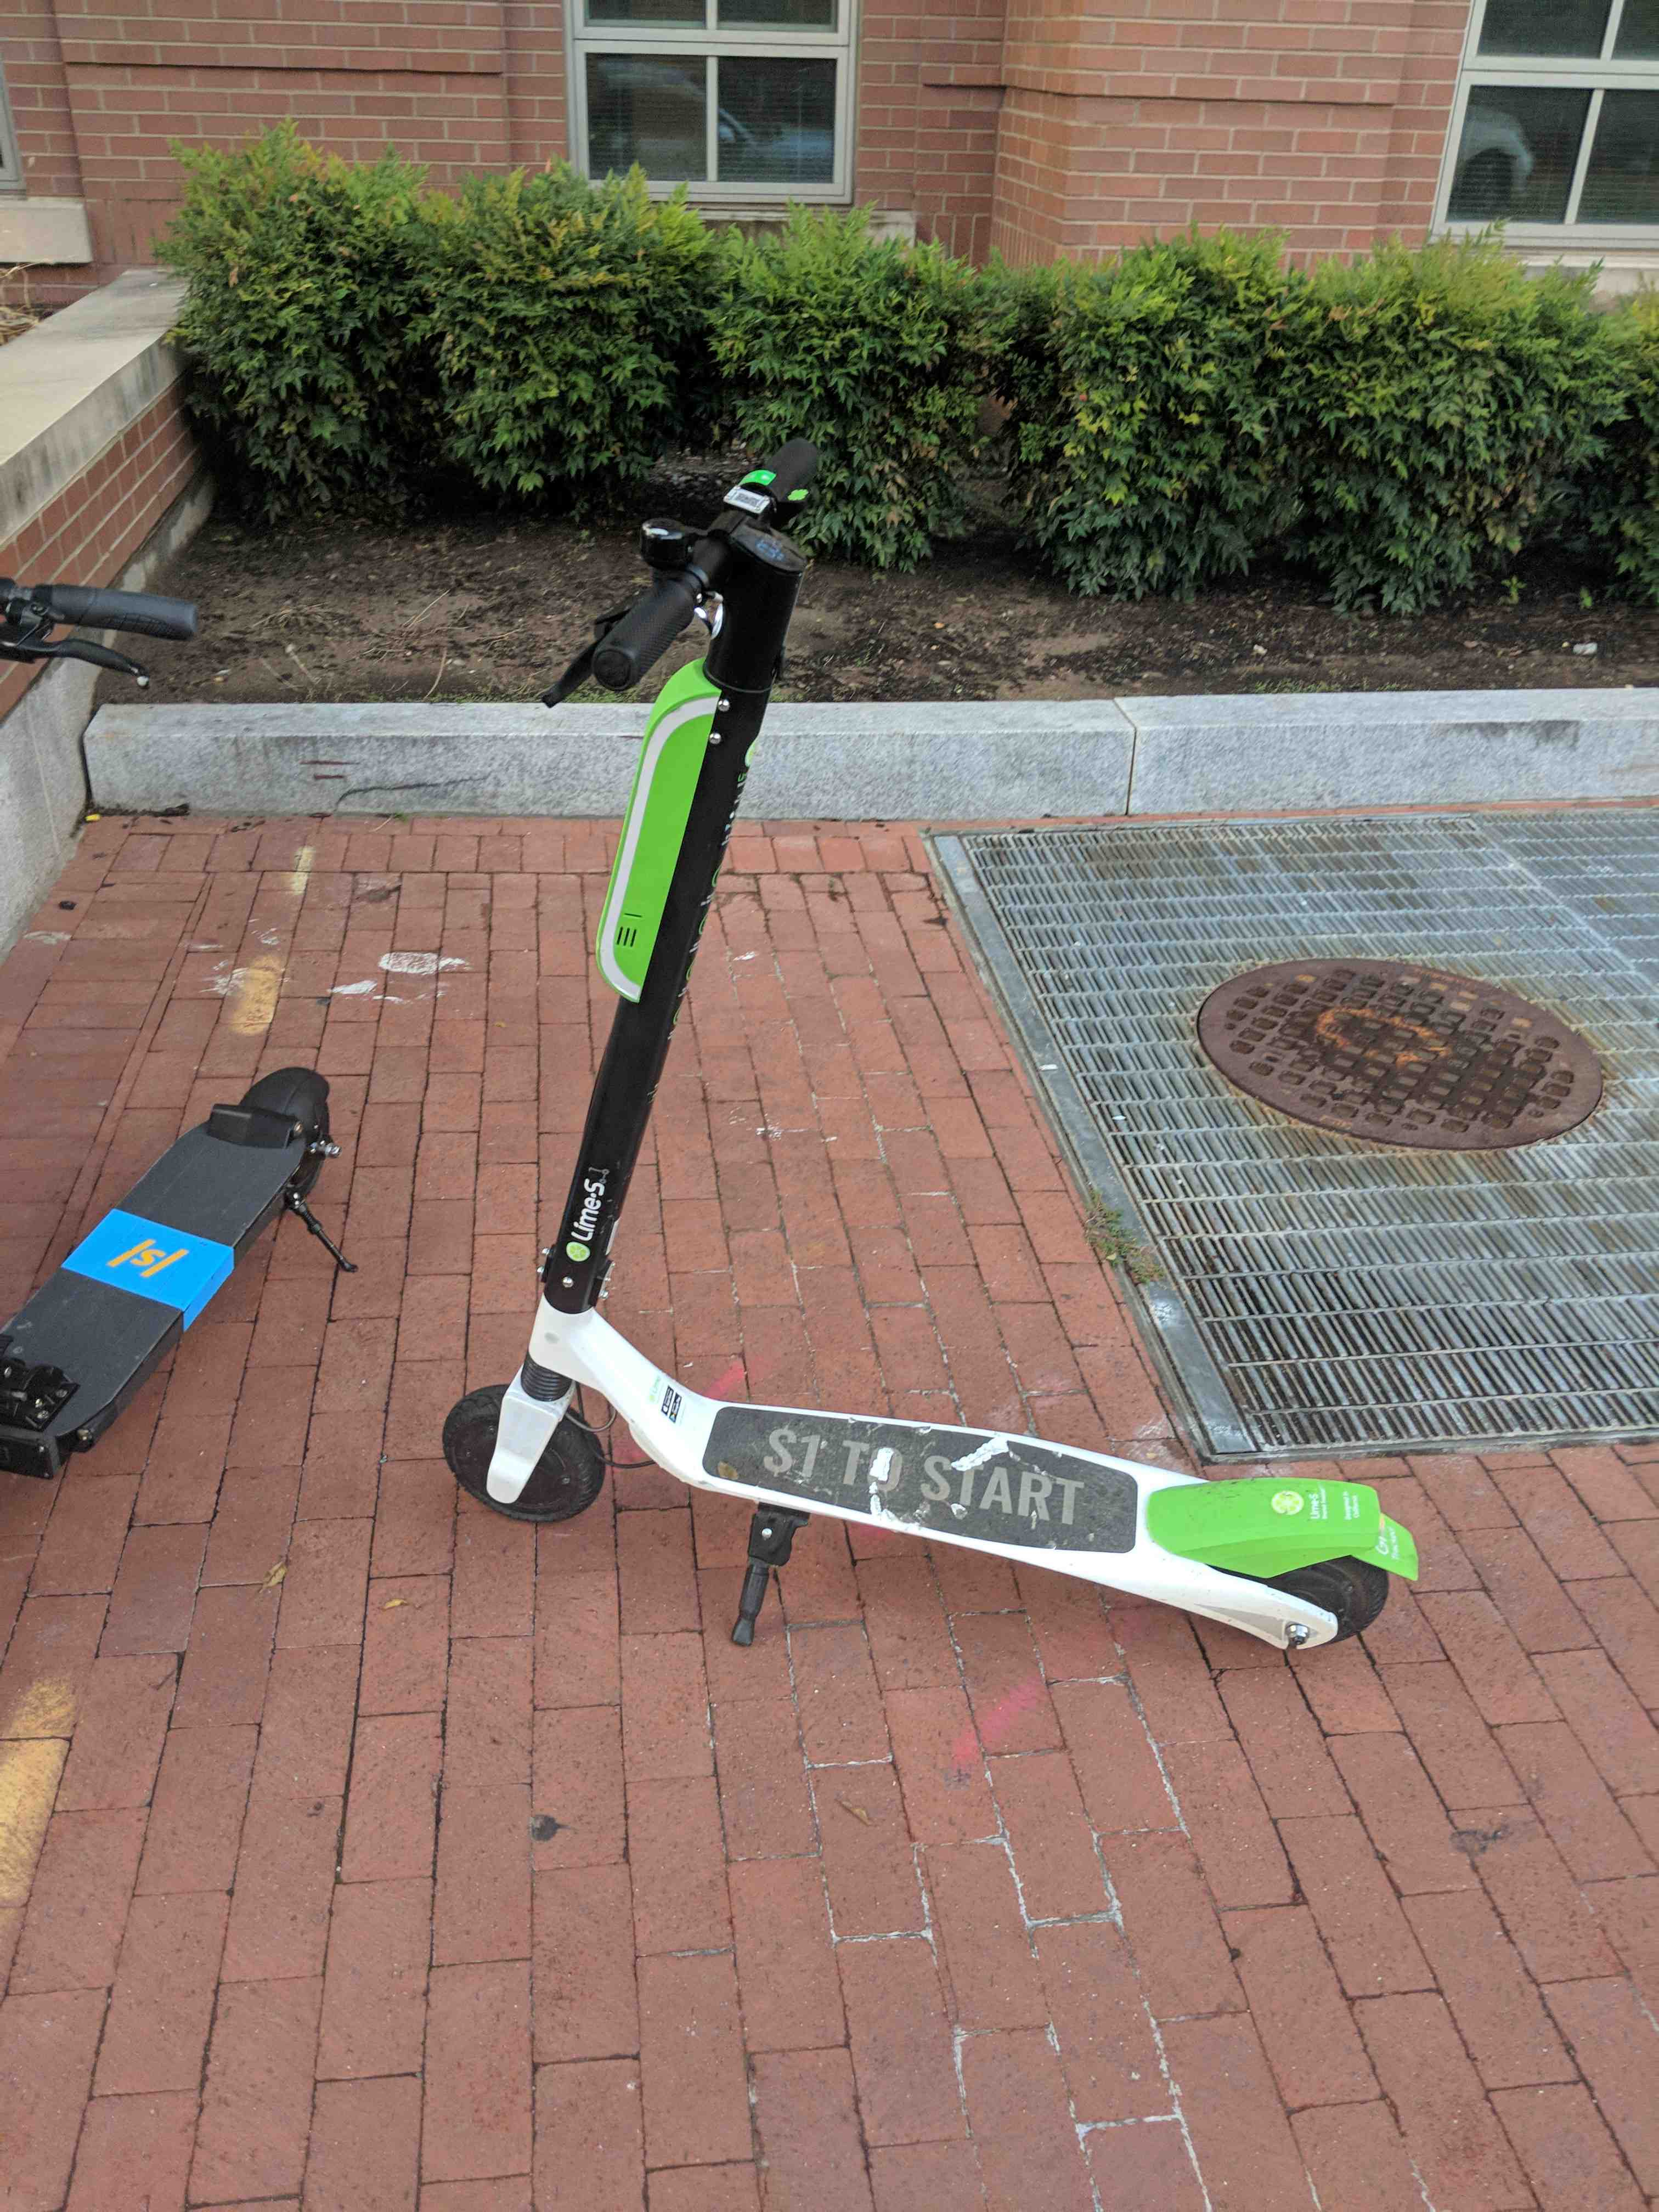scooter: (429, 402, 1450, 1710)
